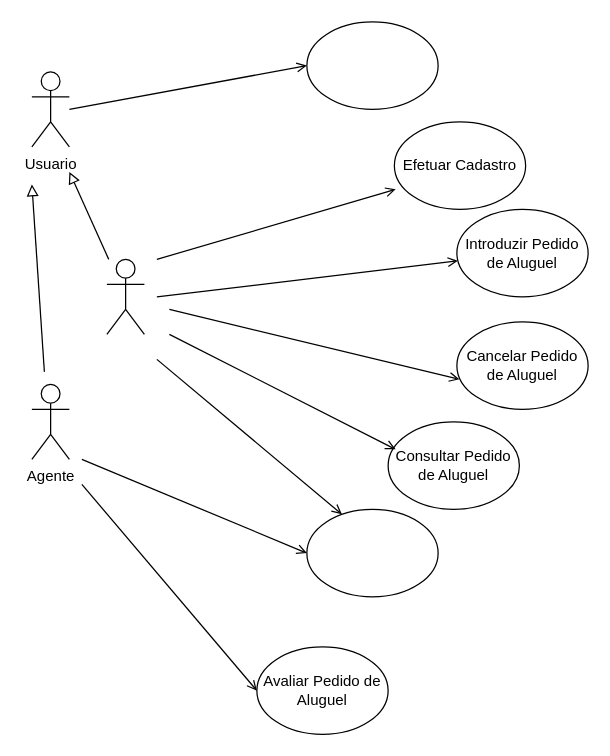
Some shapes in this 610 by 756 pixel diagram are drawn without their labels. The centre of each missing label's shape, as x and y in pixels:
"Cliente" goes at pixel 125 296.
"Efetuar Login" goes at pixel 372 65.
"Modificar Pedido de Aluguel" goes at pixel 372 552.
